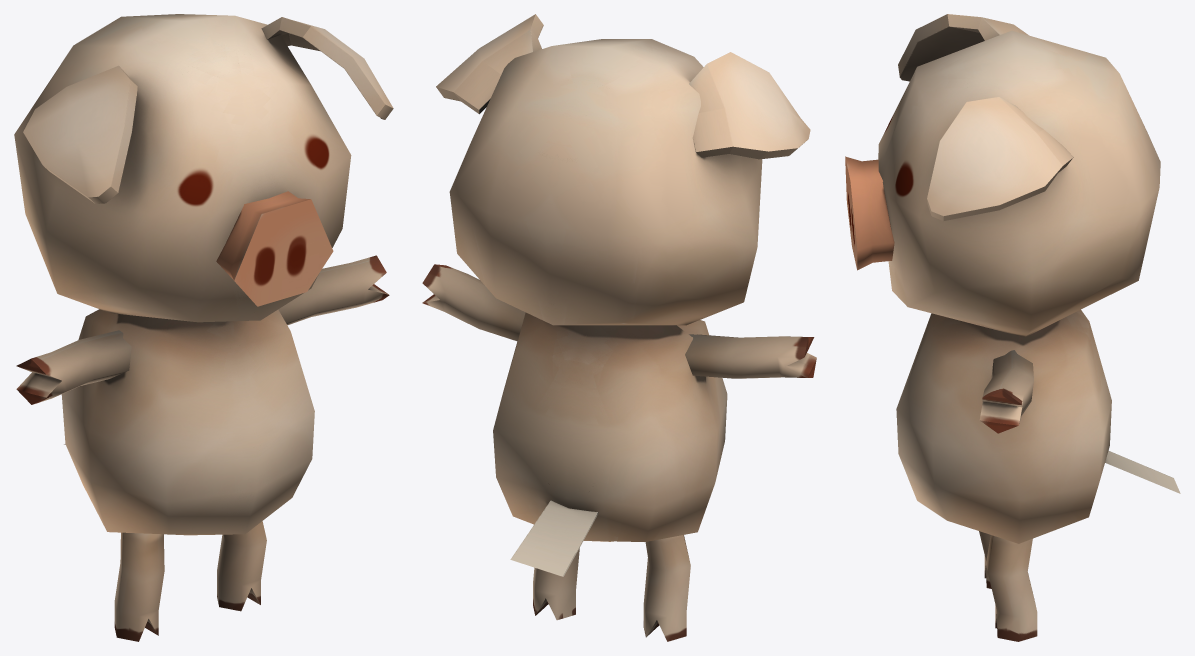
The model's file is pig water 2.obj.
3 renders of one model, left to right at view 1: azimuth 30°, elevation 25°; view 2: azimuth 150°, elevation 25°; view 3: azimuth 270°, elevation 25°, orthographic. The views are drawn at different scales.
Visible parts, largest first — view 1: pCube168; view 2: pCube168; view 3: pCube168.
Boxes of the visible parts, x1,y1,x2,y2 form: pCube168: (14, 14, 393, 641); pCube168: (422, 14, 816, 641); pCube168: (845, 14, 1180, 641).
Size of the model in its own units: 1.2 by 1.81 by 0.9839.
1 material, 1 textured.
